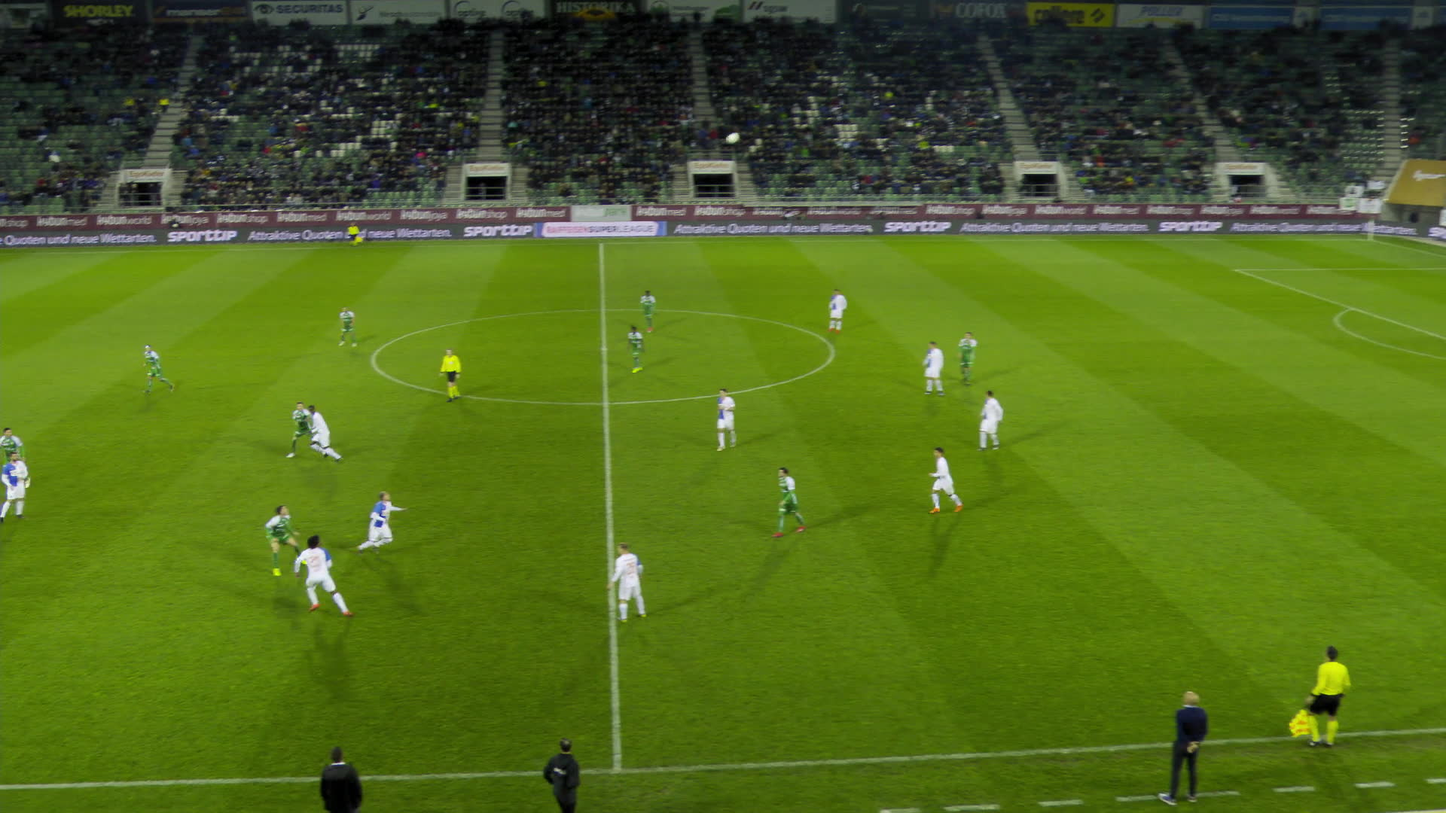ball: (736, 126, 749, 137)
player: (349, 492, 404, 562), (294, 538, 340, 617), (611, 541, 651, 625), (768, 465, 806, 539), (262, 505, 301, 577), (923, 449, 963, 516), (303, 403, 341, 464), (1, 451, 26, 522), (976, 390, 1002, 452), (287, 401, 315, 457), (713, 394, 737, 455), (139, 346, 166, 395), (2, 434, 32, 477), (918, 341, 939, 397), (953, 333, 972, 384), (334, 306, 355, 349), (819, 291, 840, 334), (622, 327, 641, 373), (637, 292, 653, 333)
referee: (1291, 645, 1351, 748), (435, 348, 458, 401), (343, 226, 361, 251)
